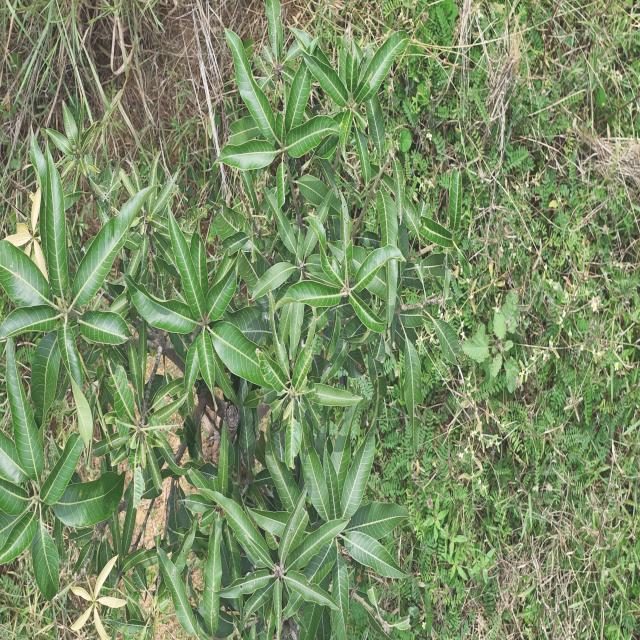mangoTree: (0, 0, 464, 640)
